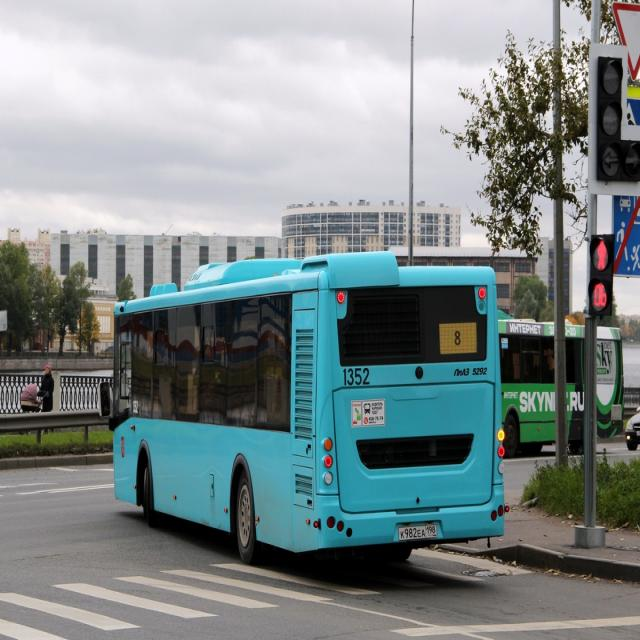number-of-bus: (452, 327, 466, 350)
